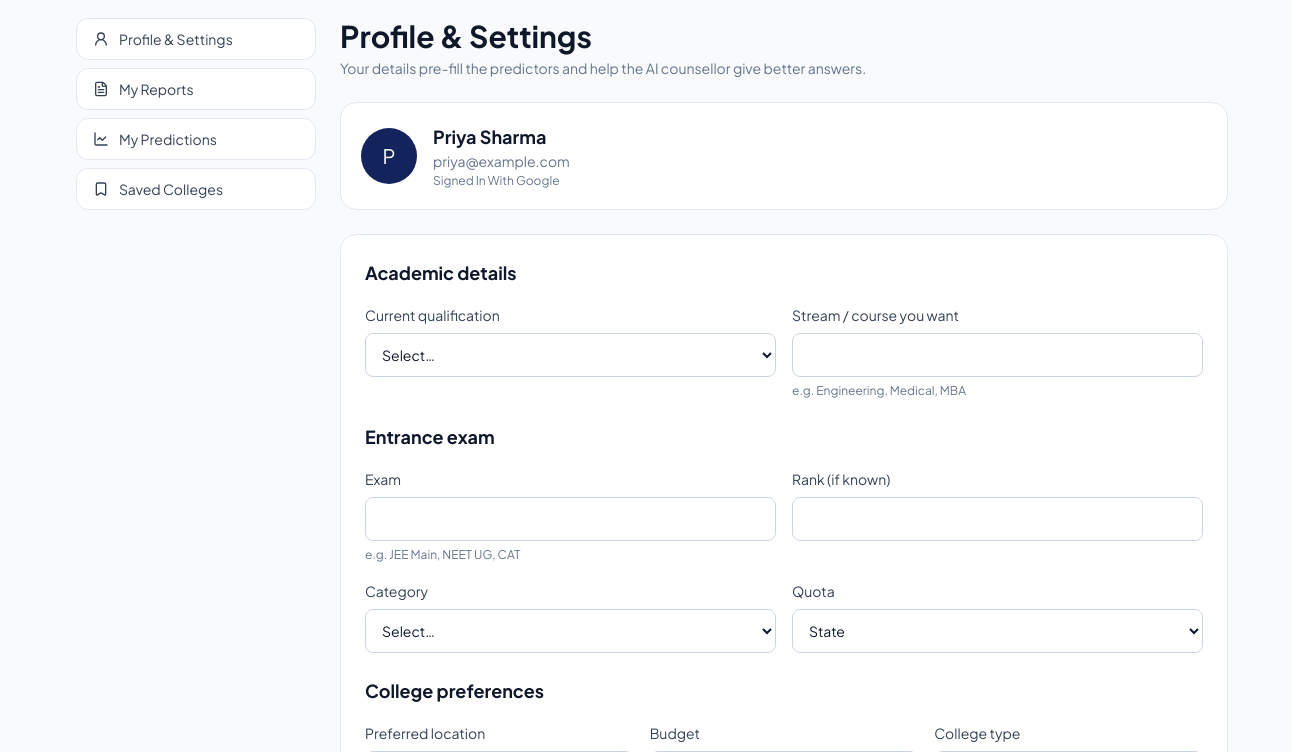
Test: Profile & Settings › shows the signed-in account and saves the student profile
Expected: the heading "Priya Sharma" is shown, [433, 125, 546, 148]
Expected: the text "priya@example.com" is shown, [433, 151, 570, 171]
Type "NEET UG" into the field labelled "Exam" at (570, 519), box [365, 497, 776, 541]
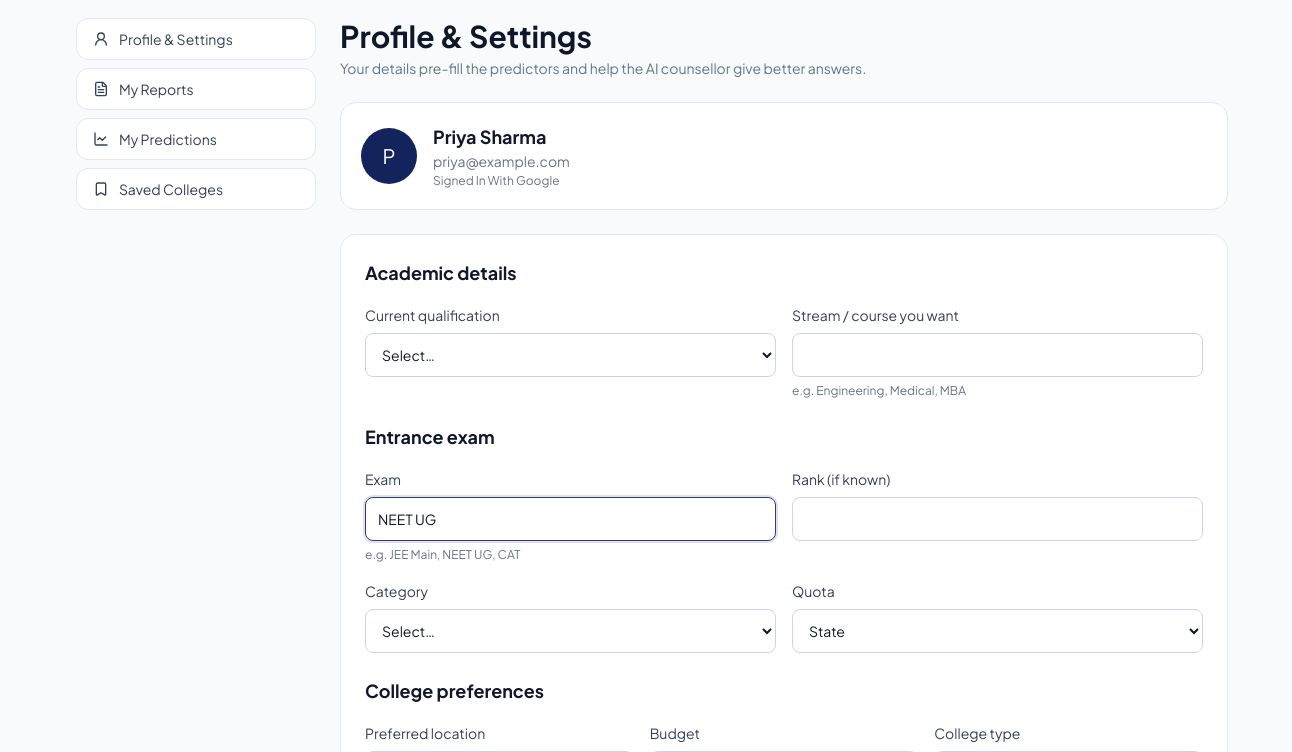
Type "3,850abc" into the field labelled "Rank (if known)" at (998, 519), box [792, 497, 1203, 541]
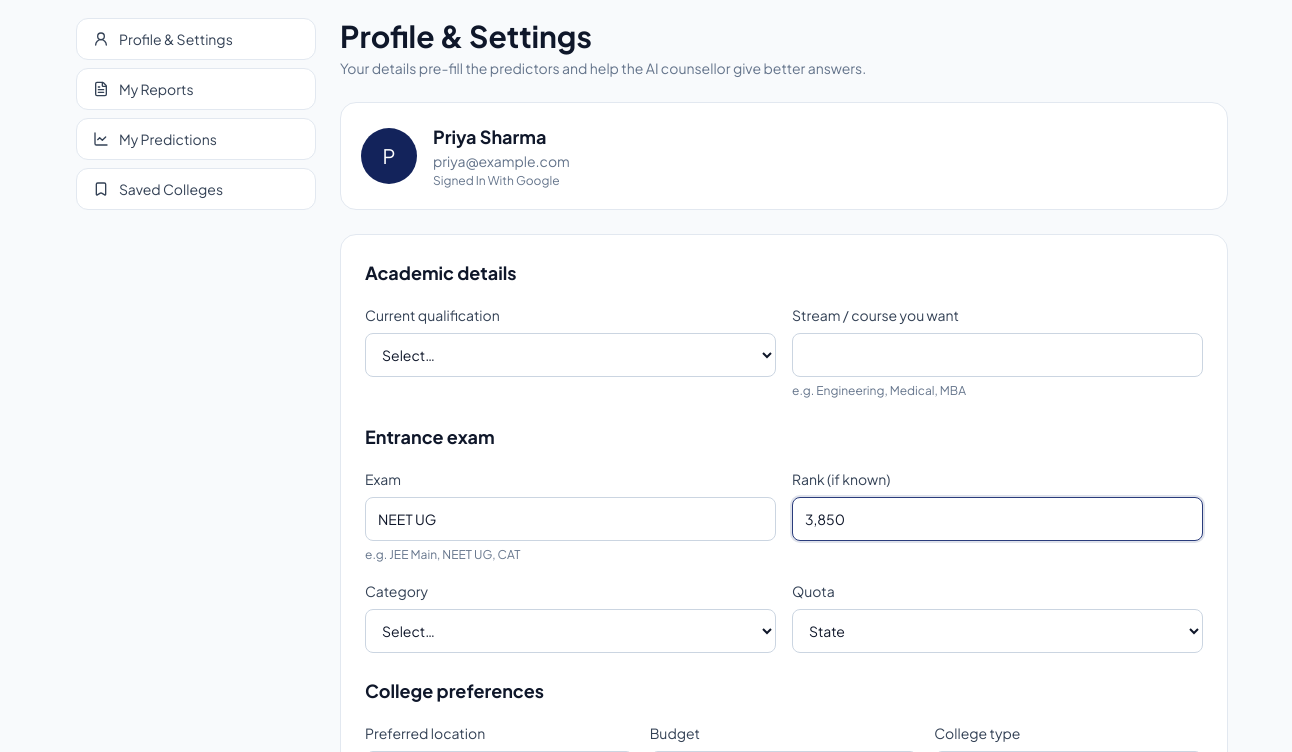
Select "OBC" in the dropdown labelled "Category" at (570, 631), box [365, 609, 776, 653]
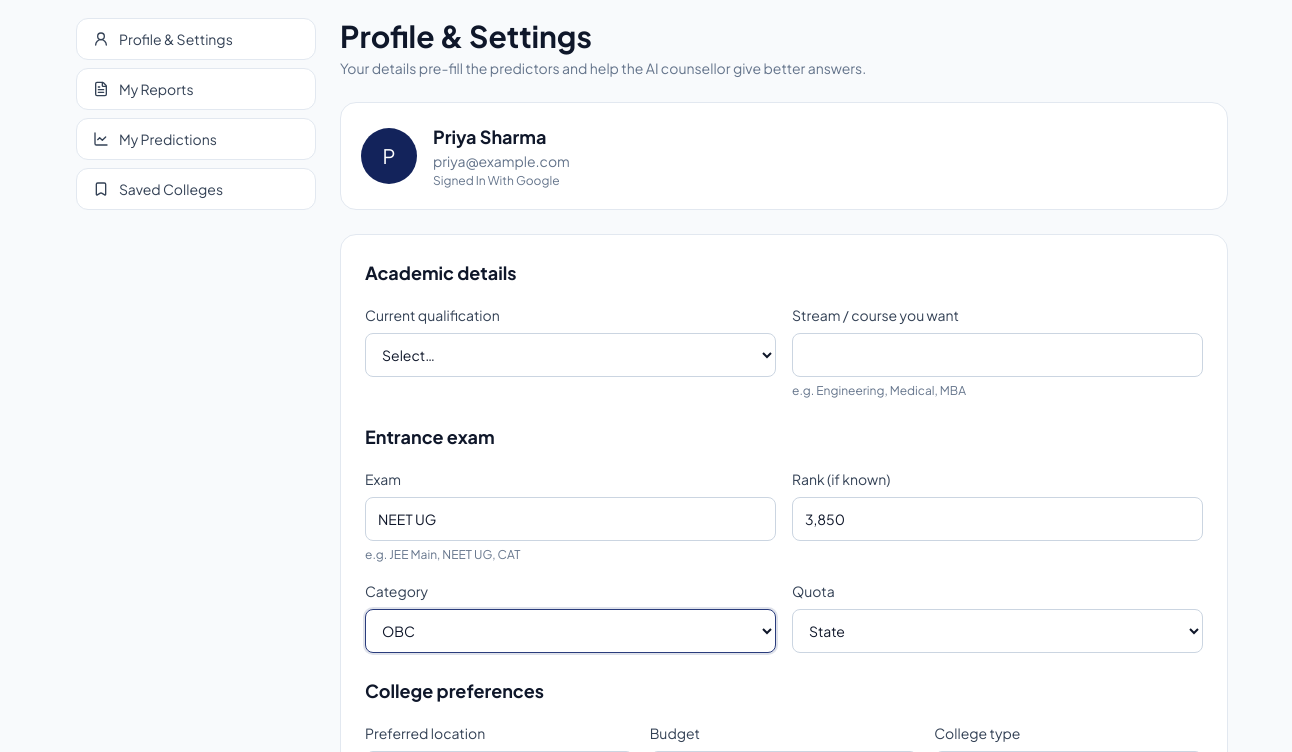
Select "All India" in the dropdown labelled "Quota" at (998, 631), box [792, 609, 1203, 653]
(page scrolled)
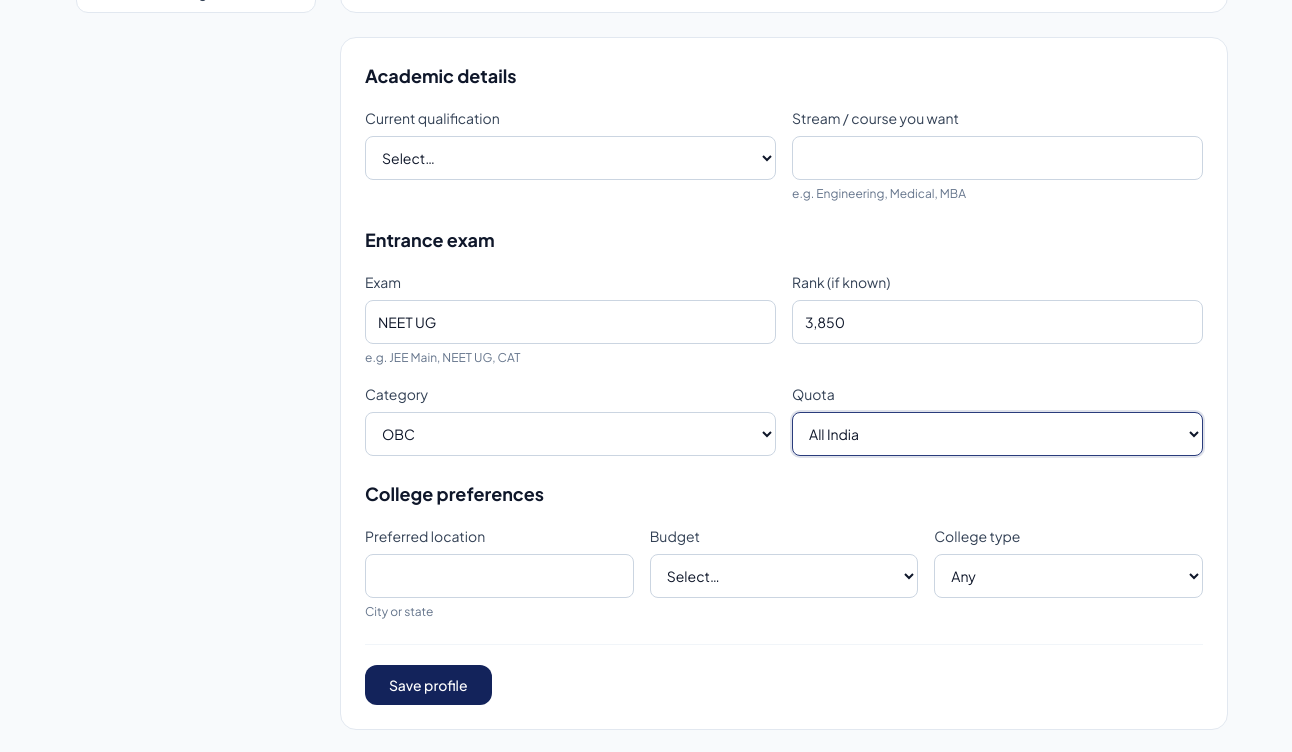
Click the button "Save profile" at (428, 685), box [365, 665, 492, 705]
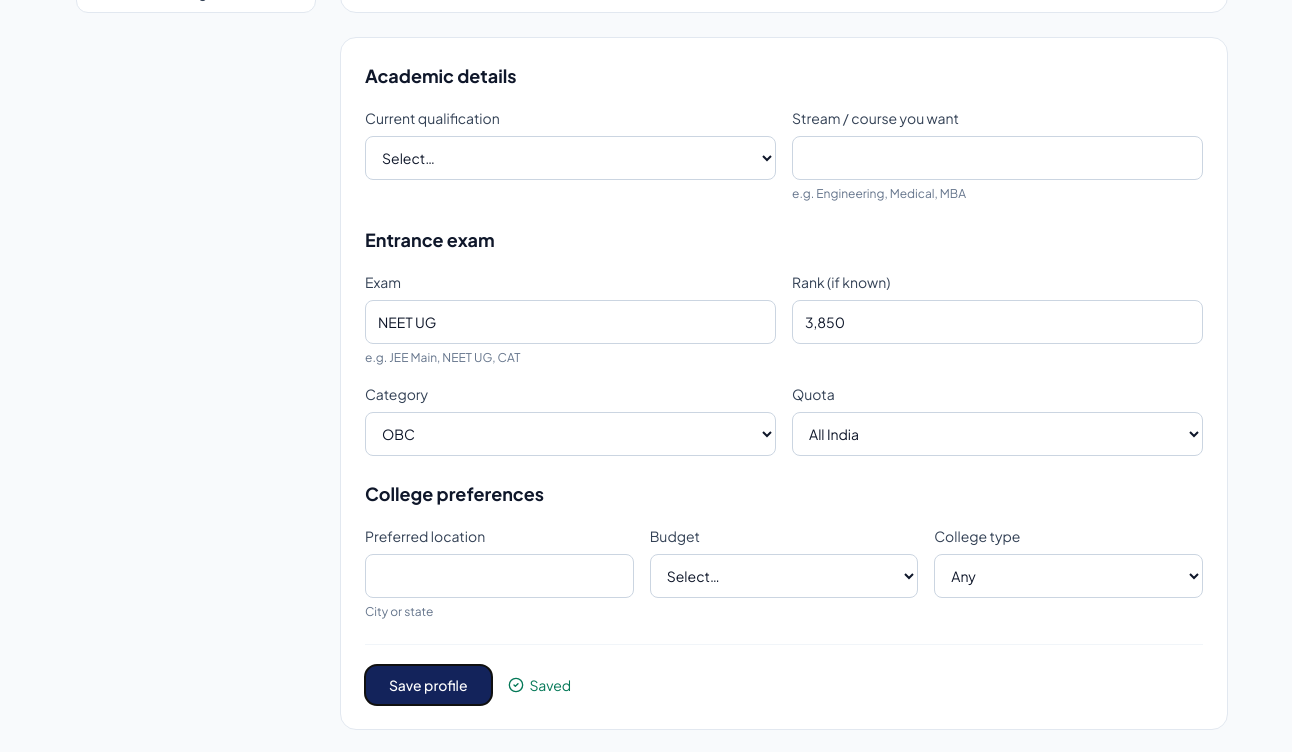
Now the message reads "Saved", box [530, 676, 571, 694]
